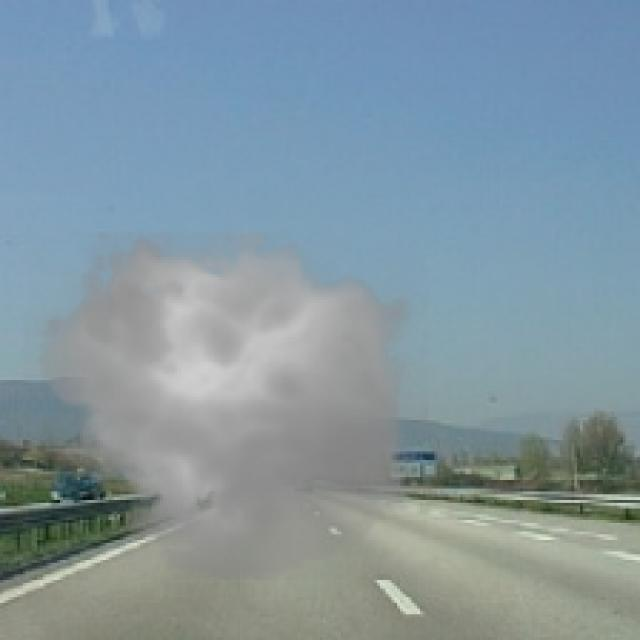Smoke: (22, 215, 428, 594)
